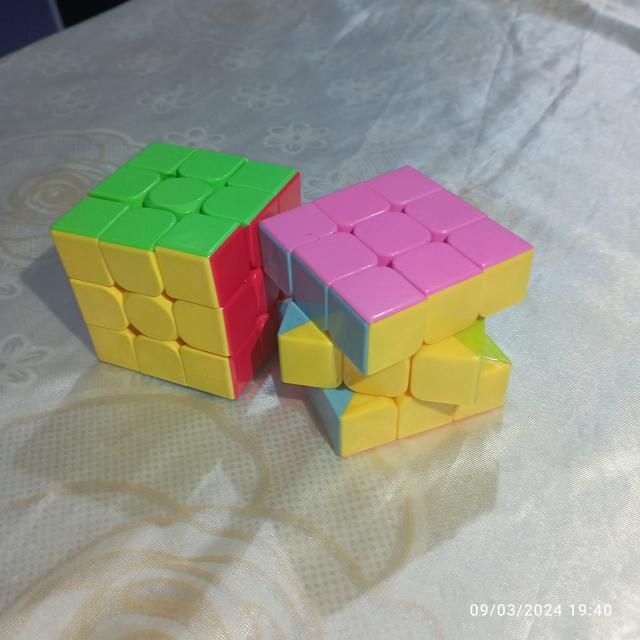Rub: (253, 159, 534, 462), (44, 130, 302, 404)
